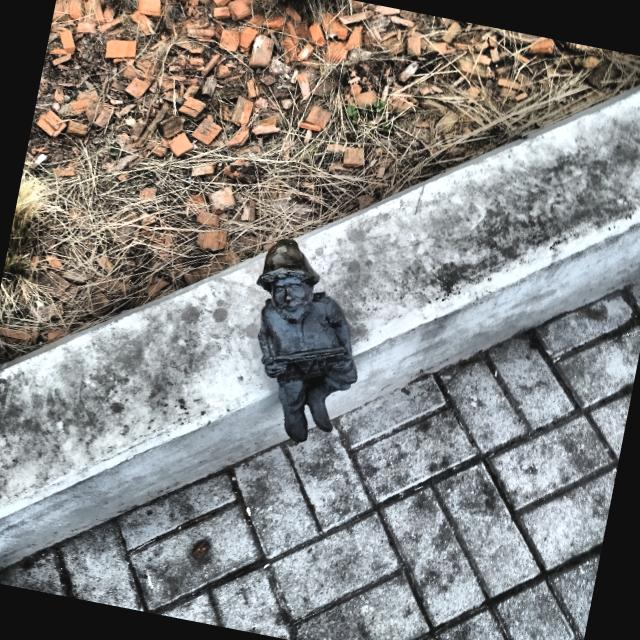Krasnal_Millenniowski: (256, 240, 357, 444)
